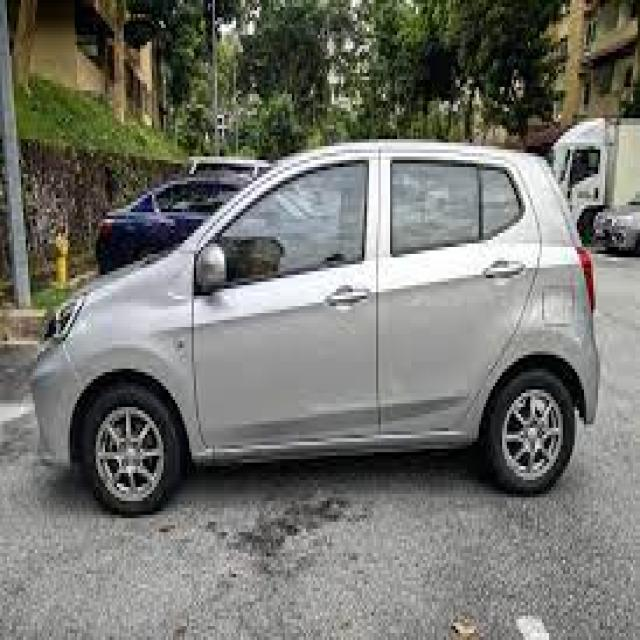PeroduaAxia: (28, 132, 600, 515)
